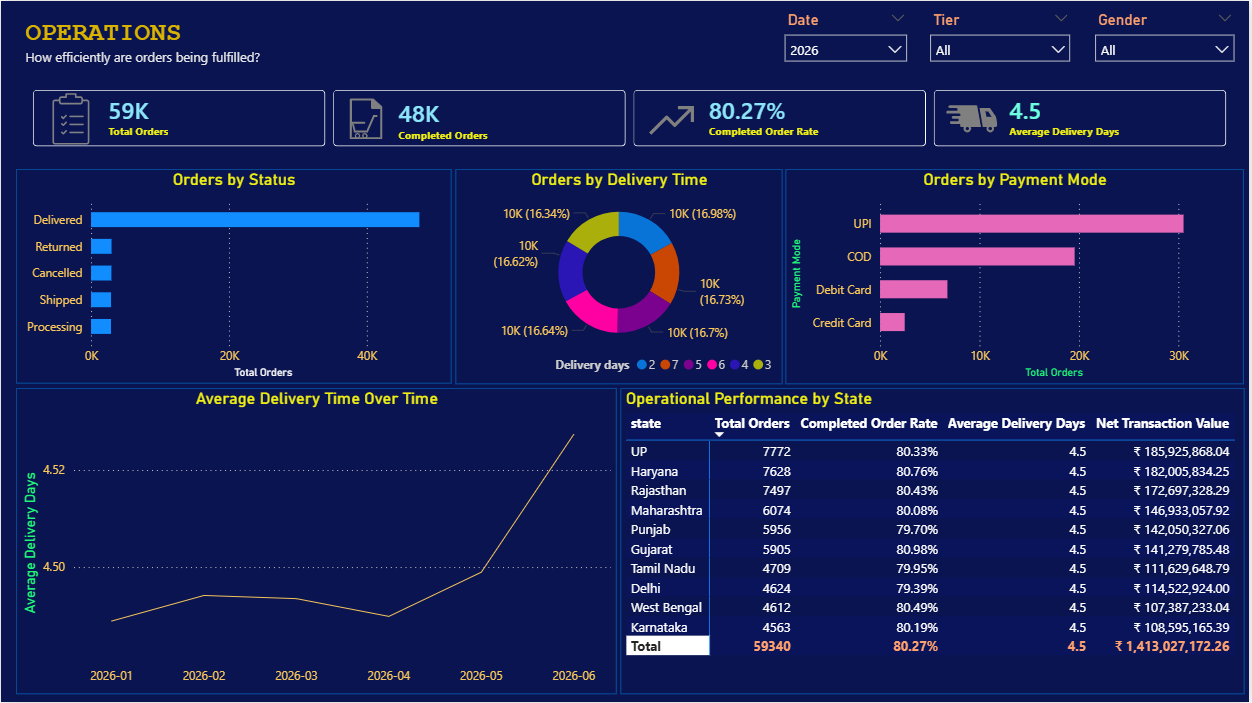

The dashboard page shown, as its layout file describes it:
{"tool":"powerbi","page":{"name":"Operations","canvas":[1280,720],"ordinal":4},"visuals":[{"type":"cardVisual","fields":{"Data":["_Measure.Total Orders","_Measure.Completed Orders","_Measure.Completed Order Rate","_Measure.Average Delivery Days"]},"box":[15.1,74.2,1259.8,92.4],"z":0},{"type":"clusteredBarChart","title":"Orders by Status","fields":{"Category":["Fact_Sales.order_status"],"Y":["_Measure.Total Orders"]},"box":[14.8,171.6,446.4,220.2],"z":1000},{"type":"donutChart","title":"Orders by Delivery Time","fields":{"Category":["Fact_Sales.delivery_days"],"Y":["_Measure.Total Orders"]},"box":[466,171.8,335,220.4],"z":2000},{"type":"slicer","fields":{"Values":["Dim_Date.Year"]},"box":[794.4,5.2,145.5,64.9],"z":3000},{"type":"lineChart","title":"Average Delivery Time Over Time","fields":{"Category":["Dim_Date.Year Month"],"Y":["_Measure.Average Delivery Days"]},"box":[14.7,396.5,616,314.3],"z":4000},{"type":"clusteredBarChart","title":"Orders by Payment Mode","fields":{"Y":["_Measure.Total Orders"],"Category":["Fact_Sales.payment_mode"]},"box":[803.9,171.8,469.9,220.4],"z":5000},{"type":"pivotTable","title":"Operational Performance by State","fields":{"Rows":["Fact_Sales.state"],"Values":["_Measure.Total Orders","_Measure.Completed Order Rate","_Measure.Average Delivery Days","_Measure.Net Transaction Value"]},"box":[634.6,396.5,640.3,314.3],"z":6000},{"type":"slicer","fields":{"Values":["Dim_Customers.customer_tier"]},"box":[943.3,5.2,163.6,64.9],"z":7000},{"type":"slicer","fields":{"Values":["Dim_Customers.gender"]},"box":[1111.7,5.2,162.3,64.9],"z":8000},{"type":"textbox","box":[19.7,12.1,519.4,62.1],"z":9000}]}

Visuals, with their boxes in screenshot pixels (x1, y1, x2, y2), scaled from the page's 1280x720 canvas onto the 1252x703 screenshot:
cardVisual - _Measure.Total Orders x _Measure.Completed Orders: box(15, 72, 1247, 163)
"Orders by Status" clusteredBarChart: box(14, 168, 451, 383)
"Orders by Delivery Time" donutChart: box(456, 168, 783, 383)
slicer - Dim_Date.Year: box(777, 5, 919, 68)
"Average Delivery Time Over Time" lineChart: box(14, 387, 617, 694)
"Orders by Payment Mode" clusteredBarChart: box(786, 168, 1246, 383)
"Operational Performance by State" pivotTable: box(621, 387, 1247, 694)
slicer - Dim_Customers.customer_tier: box(923, 5, 1083, 68)
slicer - Dim_Customers.gender: box(1087, 5, 1246, 68)
textbox: box(19, 12, 527, 72)
